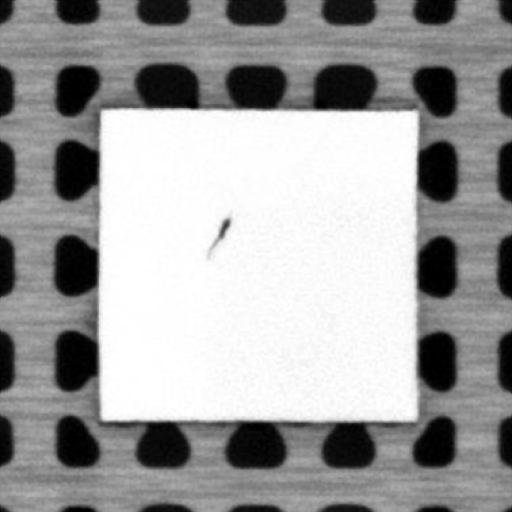DIE_INK: (205, 213, 233, 258)
